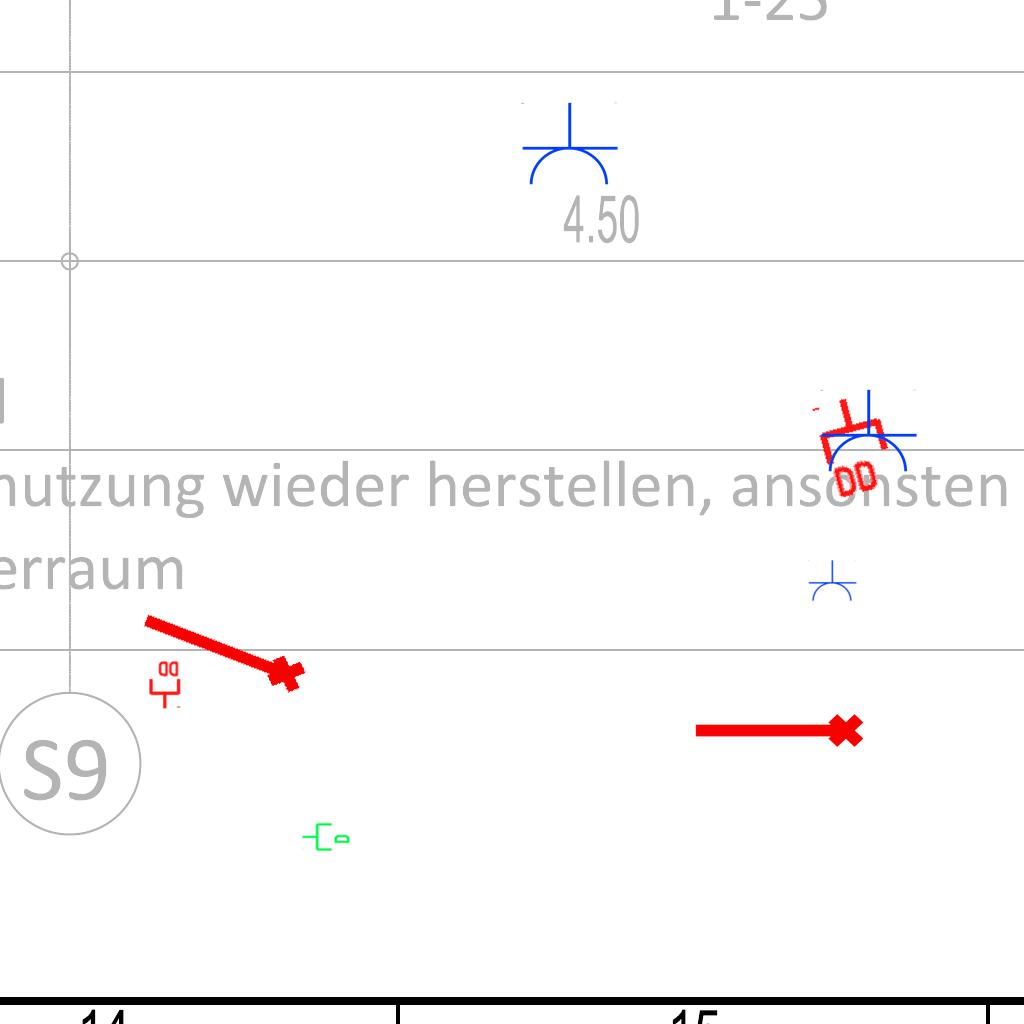ASR_Ansaugoeffnung: (131, 598, 313, 706), (690, 710, 866, 756)
Datenanschluss_einfach: (301, 819, 351, 853)
Datenanschluss_zweifach: (809, 386, 904, 505), (147, 659, 181, 710)
Schukosteckdose_einfach: (519, 102, 619, 189), (818, 389, 918, 476), (807, 560, 857, 603)
